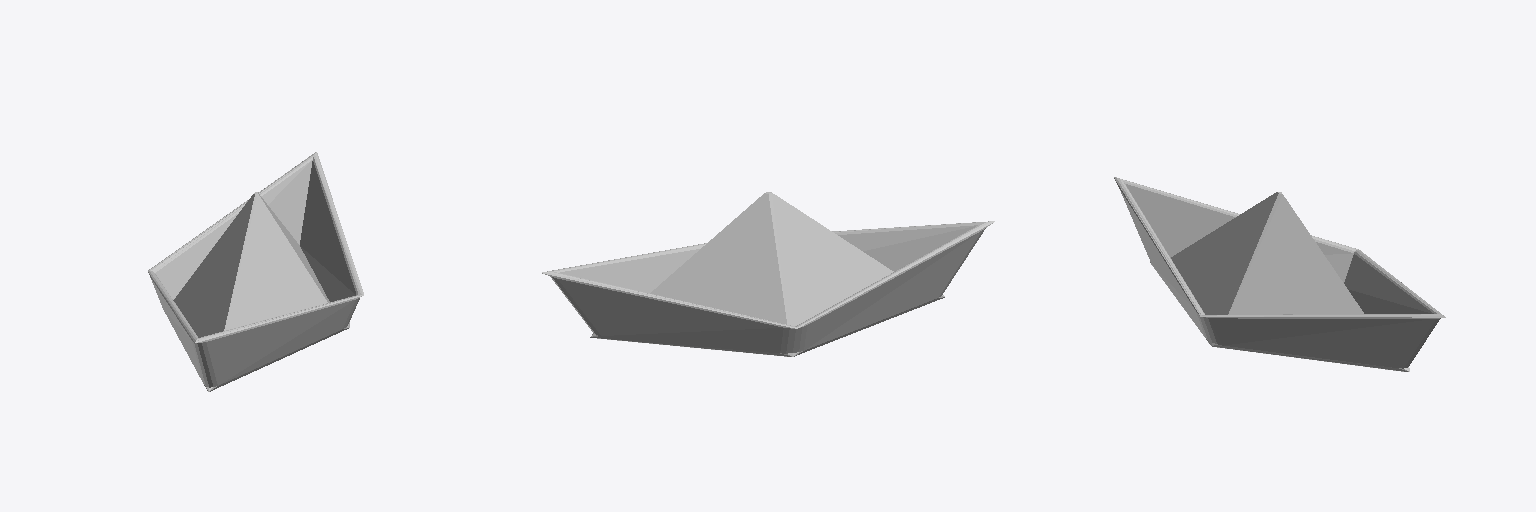
File: boat.obj
3 renders of one model, left to right at view 1: azimuth 30°, elevation 25°; view 2: azimuth 150°, elevation 25°; view 3: azimuth 270°, elevation 25°, orthographic.
Visible parts, largest first — view 1: Boat; view 2: Boat; view 3: Boat.
Boxes of the visible parts, <box> form: Boat: <box>148,152,363,391</box>; Boat: <box>542,192,994,356</box>; Boat: <box>1114,177,1445,371</box>.
Size of the model in its own units: 0.7159 by 0.2994 by 0.7159.